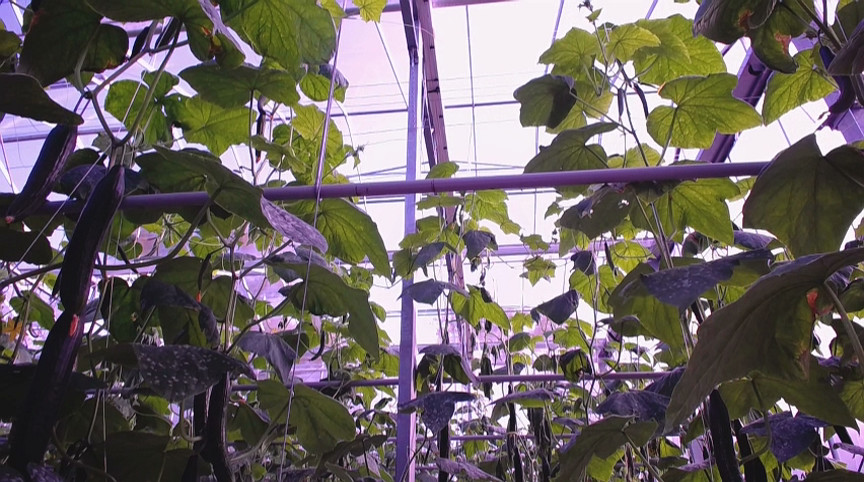cucumber: (59, 164, 130, 318), (3, 122, 80, 227), (705, 390, 743, 482), (206, 370, 235, 482), (818, 46, 856, 117)
